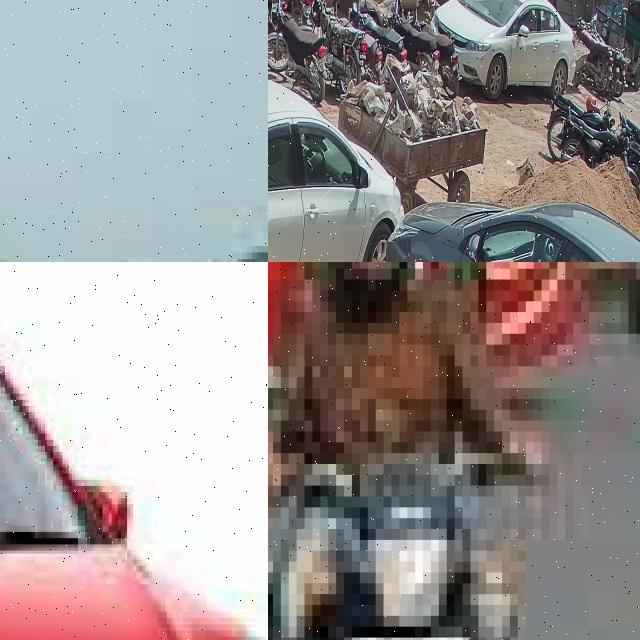bike: (268, 442, 549, 640), (268, 0, 331, 102), (311, 0, 366, 93), (545, 88, 611, 162), (412, 0, 461, 98), (557, 106, 628, 171), (334, 0, 382, 84), (388, 0, 440, 73), (348, 0, 406, 62), (576, 17, 613, 95), (268, 0, 312, 30), (359, 0, 405, 27), (624, 113, 640, 163)
car: (0, 262, 268, 640), (268, 73, 403, 262), (431, 0, 575, 98)
